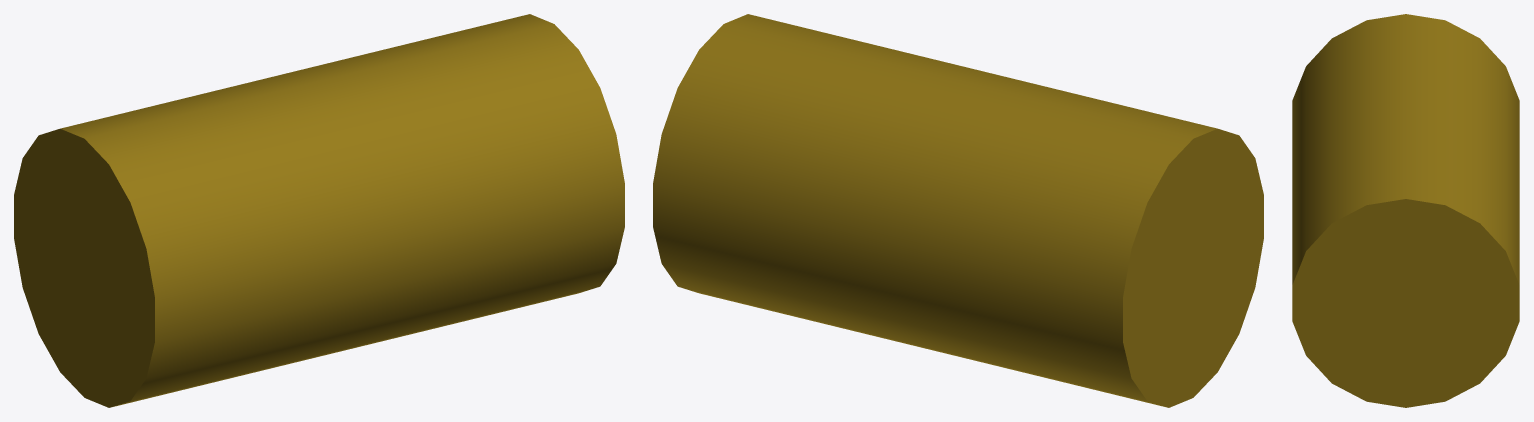
3 views of the same model, side by side, from view 1: azimuth 30°, elevation 25°; view 2: azimuth 150°, elevation 25°; view 3: azimuth 270°, elevation 25° (orthographic). The views are drawn at different scales.
Visible parts, largest first — view 1: Cylinder29-FACES.Mesh; view 2: Cylinder29-FACES.Mesh; view 3: Cylinder29-FACES.Mesh.
Part boxes in pixels (left/top/right/bottom): Cylinder29-FACES.Mesh: left=14, top=14, right=624, bottom=407; Cylinder29-FACES.Mesh: left=653, top=14, right=1263, bottom=407; Cylinder29-FACES.Mesh: left=1292, top=14, right=1519, bottom=407.
Size of the model in its own units: 0.0524 by 0.0276 by 0.0272.
